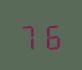seven: (19, 20, 40, 50)
six: (41, 19, 62, 49)
